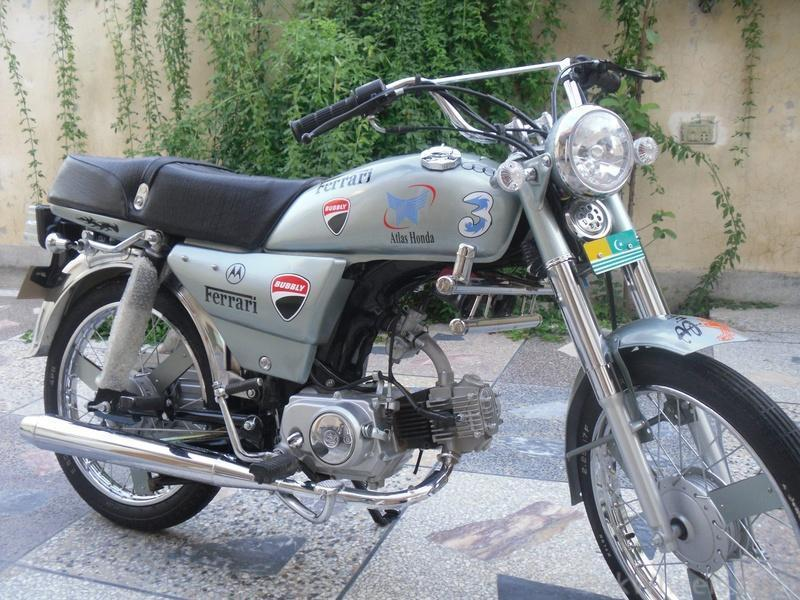bike: (20, 35, 800, 600)
